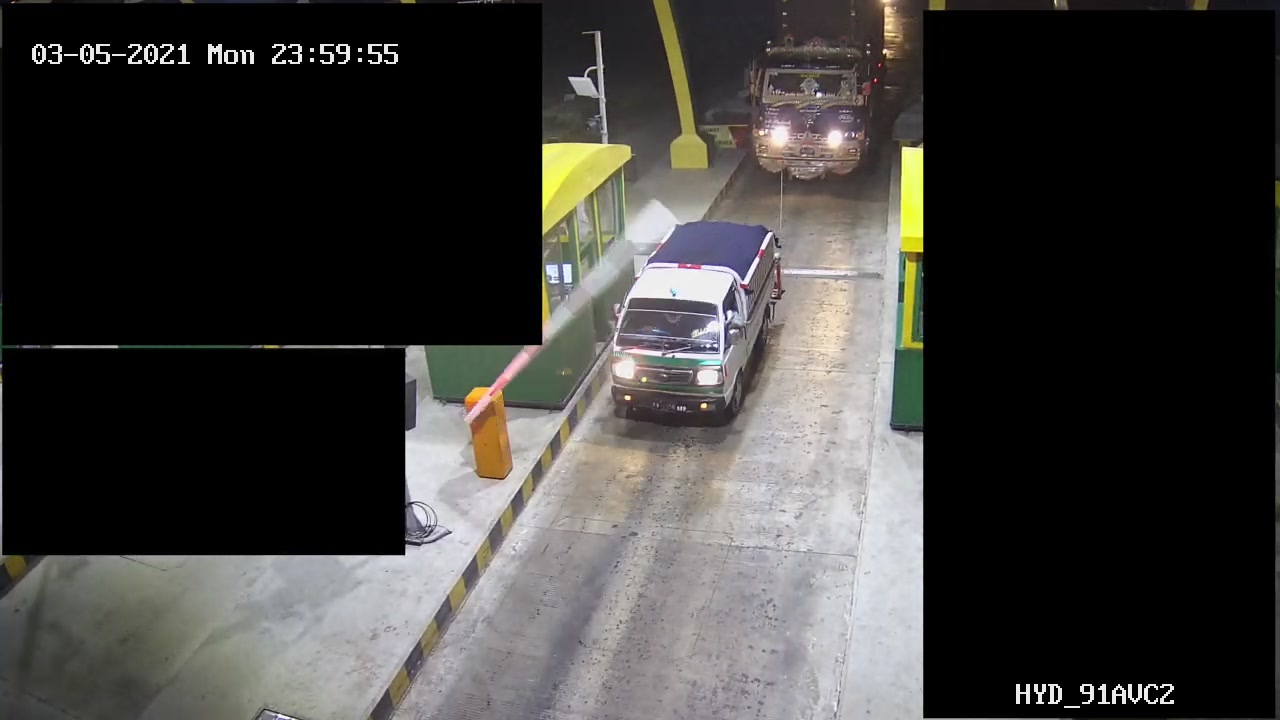F1: (600, 215, 795, 435)
